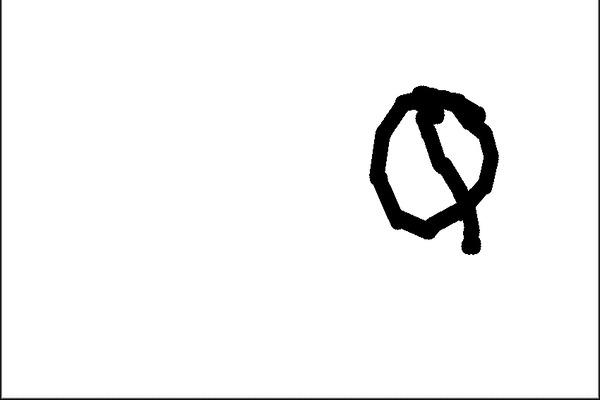Q: (355, 77, 500, 260)
